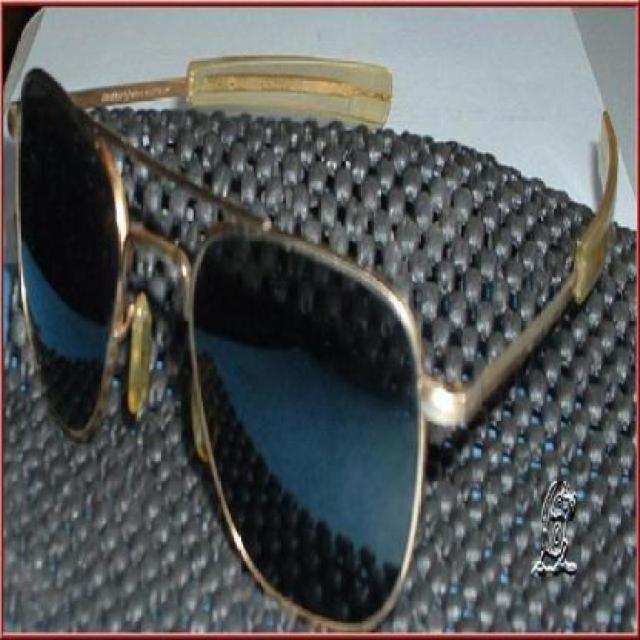glasses: (29, 0, 627, 638)
